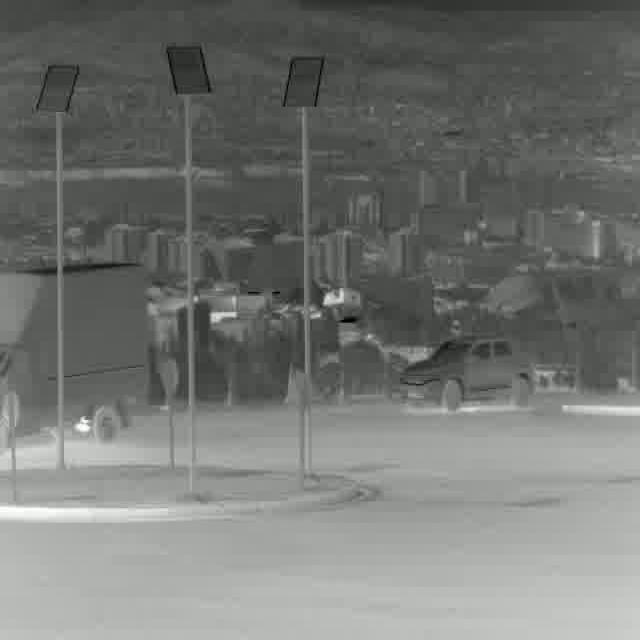Car: (0, 266, 148, 439), (399, 337, 534, 408)
